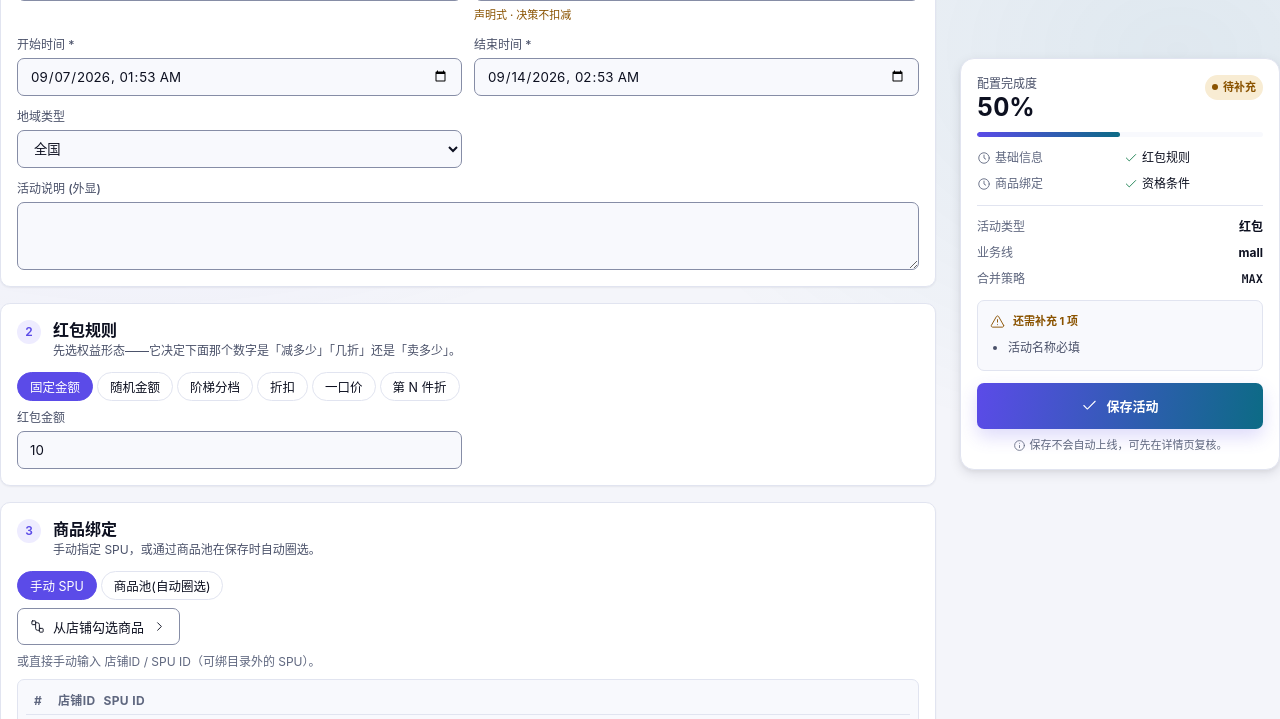
Scenario: EditorView 玩法模板预填 › 「随机金额」是一等形态，选中后换成区间输入并说明是确定性随机
(page scrolled)
Click the button with test id "mode-random".
click(135, 386)  # box [97,372,173,400]
(page scrolled)
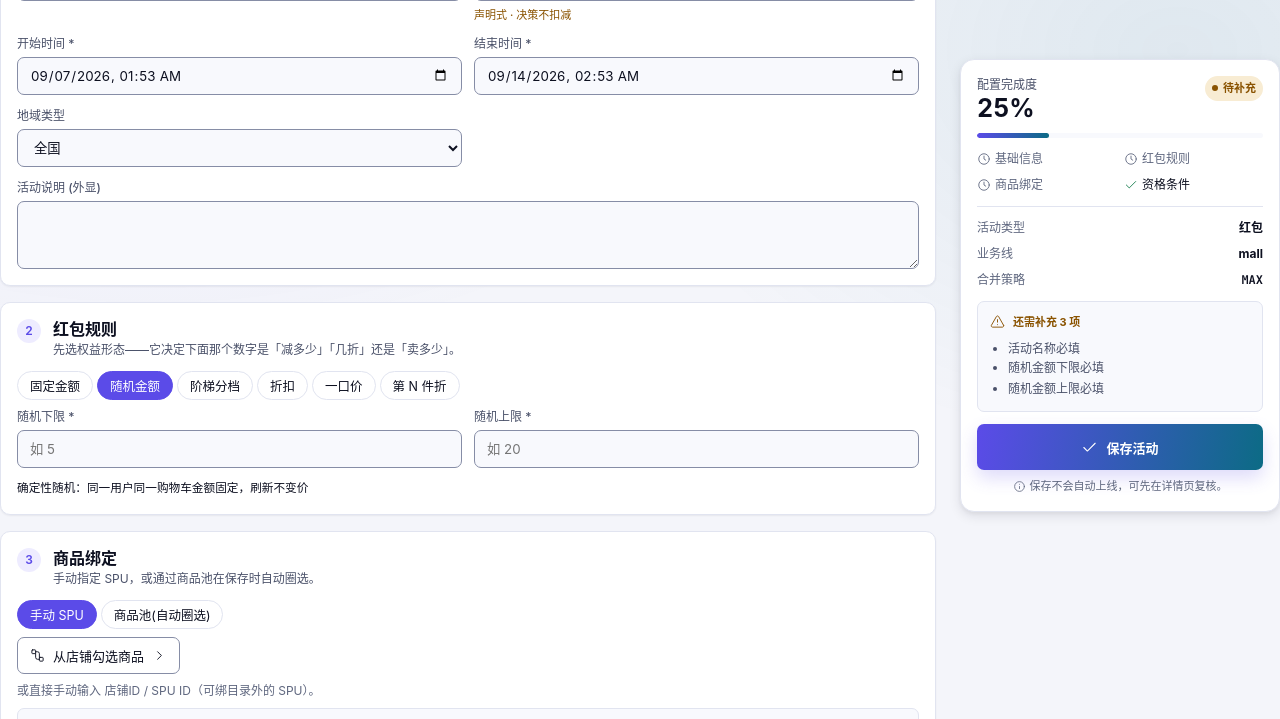
Result: the number field with test id "form-range-min" is shown at [17,430,462,468]
Result: the number field with test id "form-range-max" is shown at [474,430,919,468]
Result: the text "确定性随机" is shown at [17,481,308,495]
